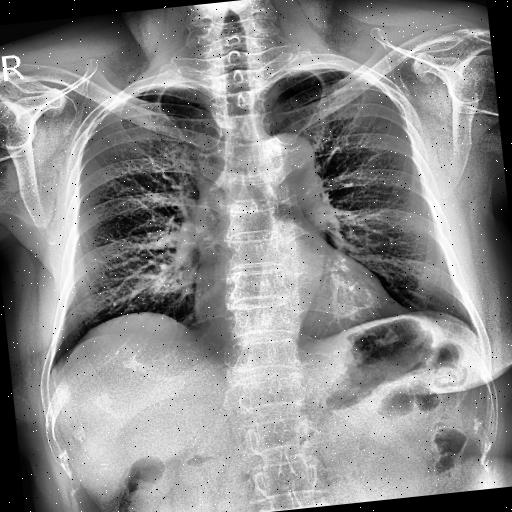0- Aortic enlargement: (254, 128, 326, 208), (255, 128, 321, 198), (257, 130, 315, 180)
3- Cardiomegaly: (192, 276, 410, 360)
